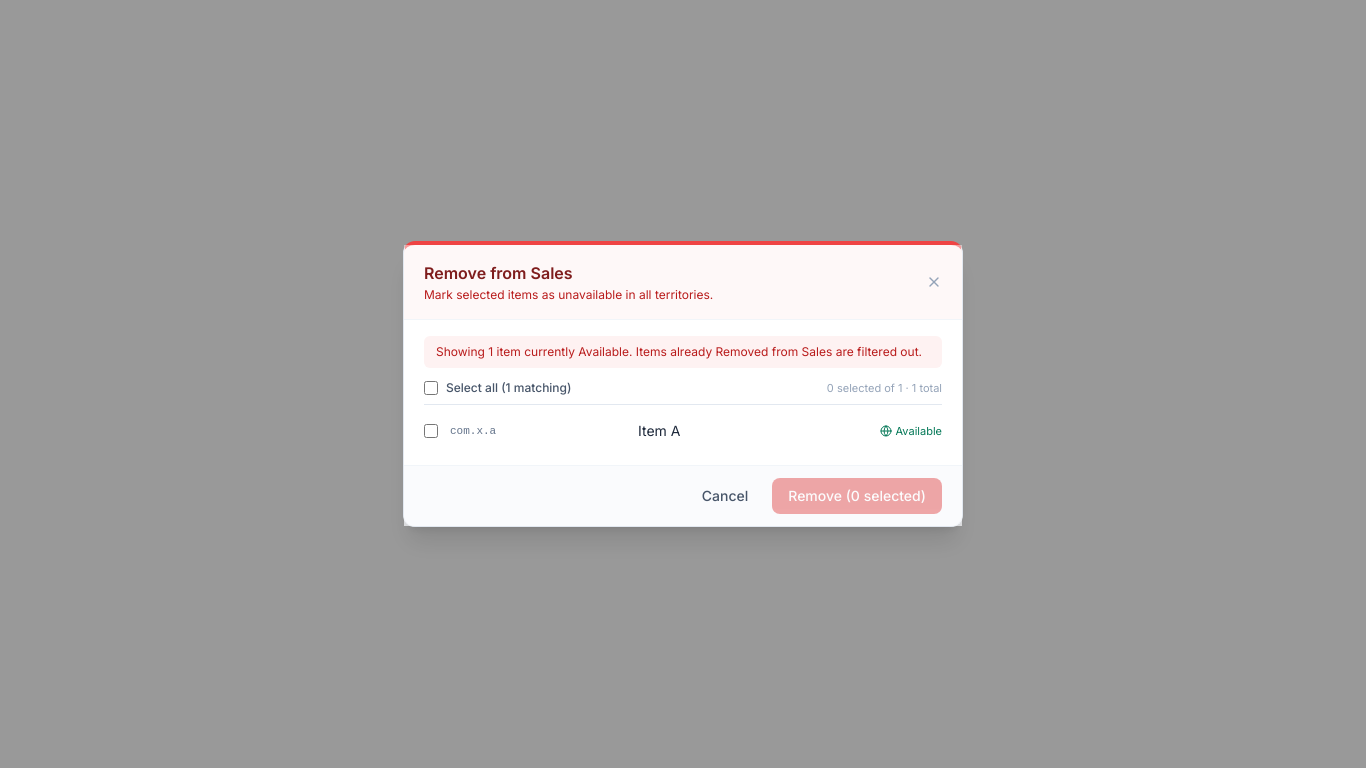
it: AvailabilitiesBulkModal — Hub tracking › beforeunload before the write commits sends CANCELLED via sendBeacon
The image size is (1366, 768).
Step 1. Click the checkbox named "Select com.x.a" → (431, 431), box [424,424,438,438]
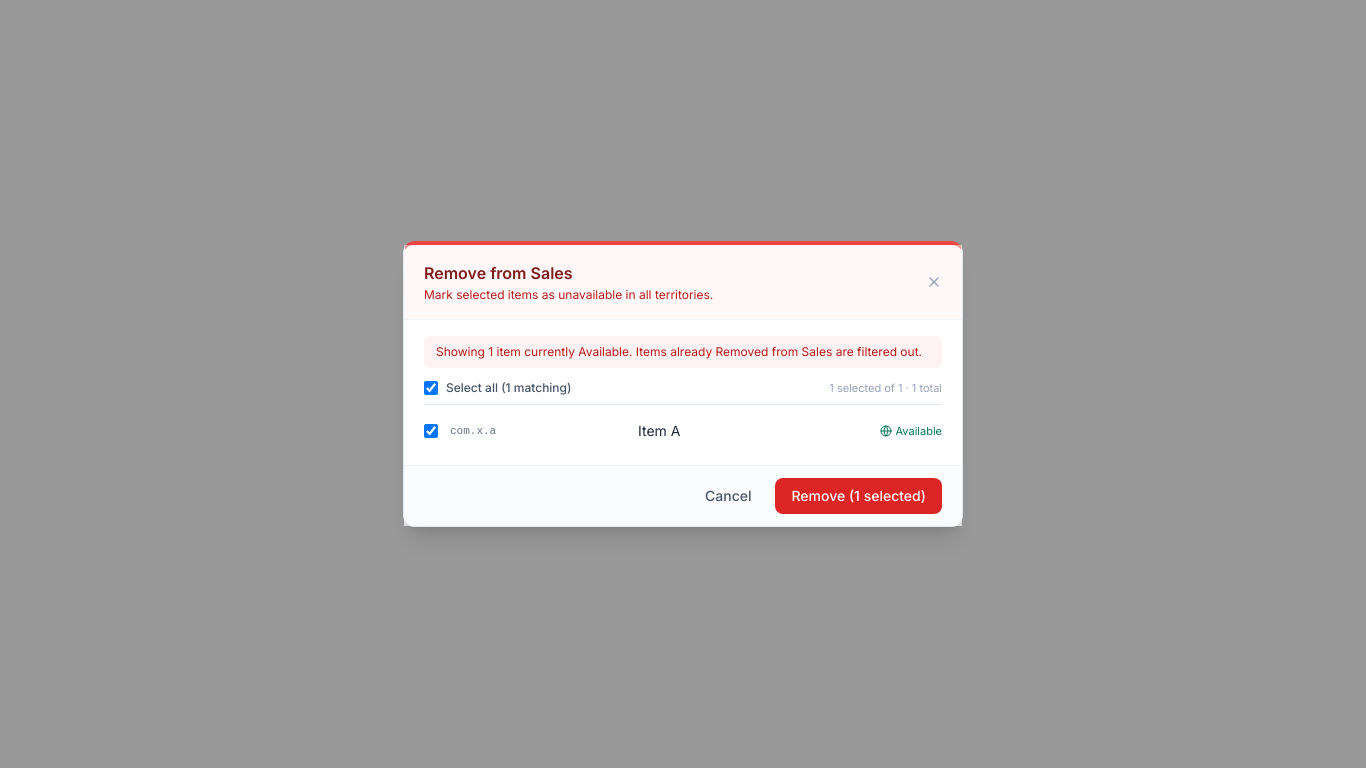
Step 2. Click the button "Remove (1 selected)" → (859, 496), box [776,478,942,514]
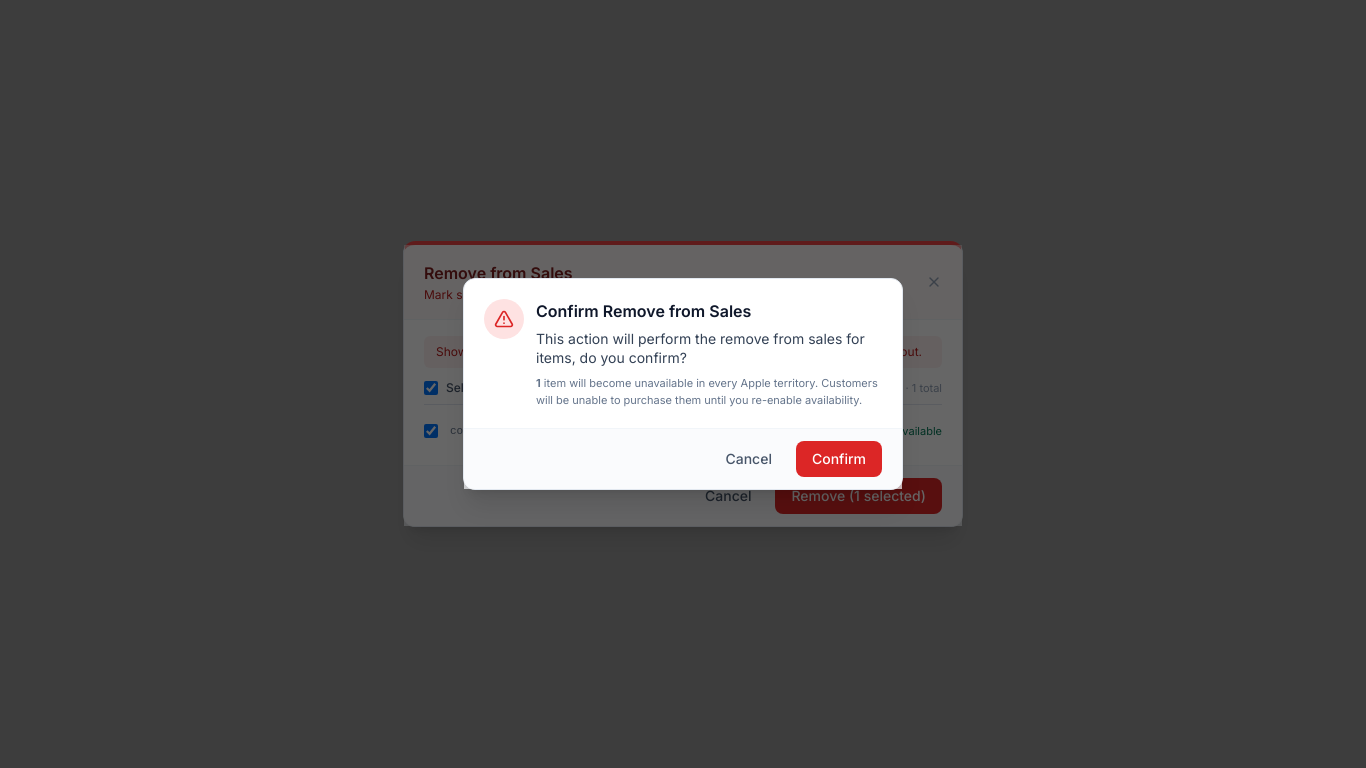
Expected: the heading "Confirm Remove from Sales" is shown, [536,301,751,321]
